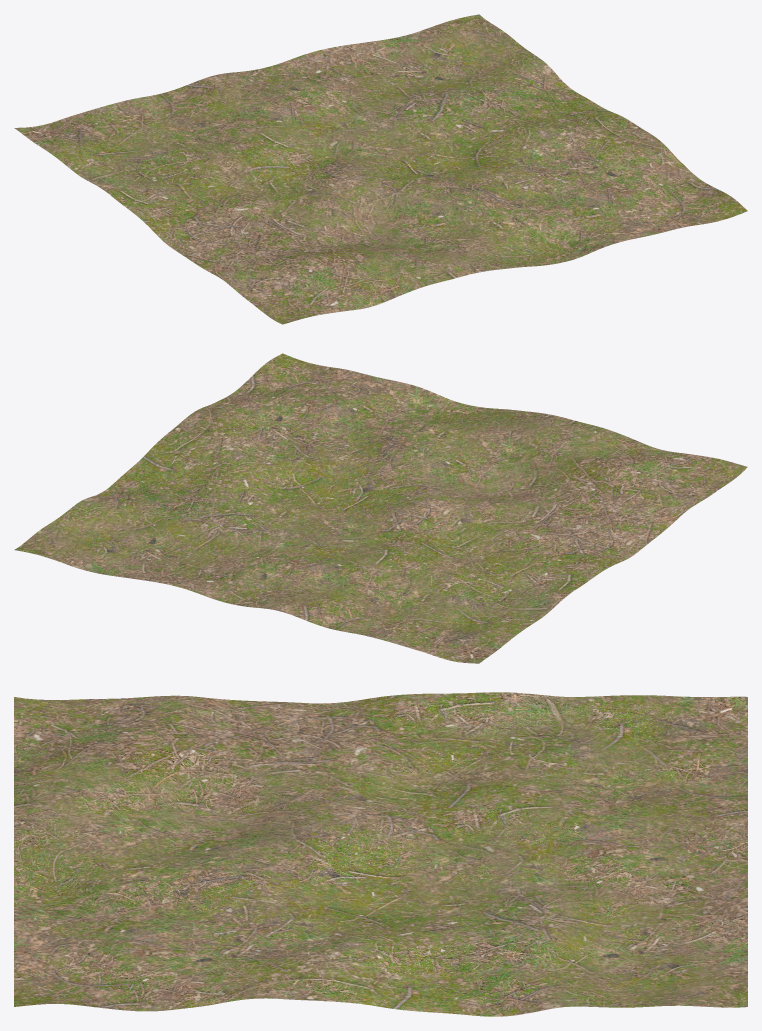
File: terrain3.dae
3 views of the same model, one above another, from view 1: azimuth 30°, elevation 25°; view 2: azimuth 150°, elevation 25°; view 3: azimuth 270°, elevation 25° (orthographic). The views are drawn at different scales.
Parts seen in each view (by area): view 1: Plan; view 2: Plan; view 3: Plan.
Part boxes in pixels (bbox=[...]): Plan: bbox=[14, 14, 747, 324]; Plan: bbox=[14, 353, 747, 663]; Plan: bbox=[14, 692, 747, 1016].
Bounding box in the file's own units: 3.98 × 3.98 × 0.1491.
1 material, 1 textured.
